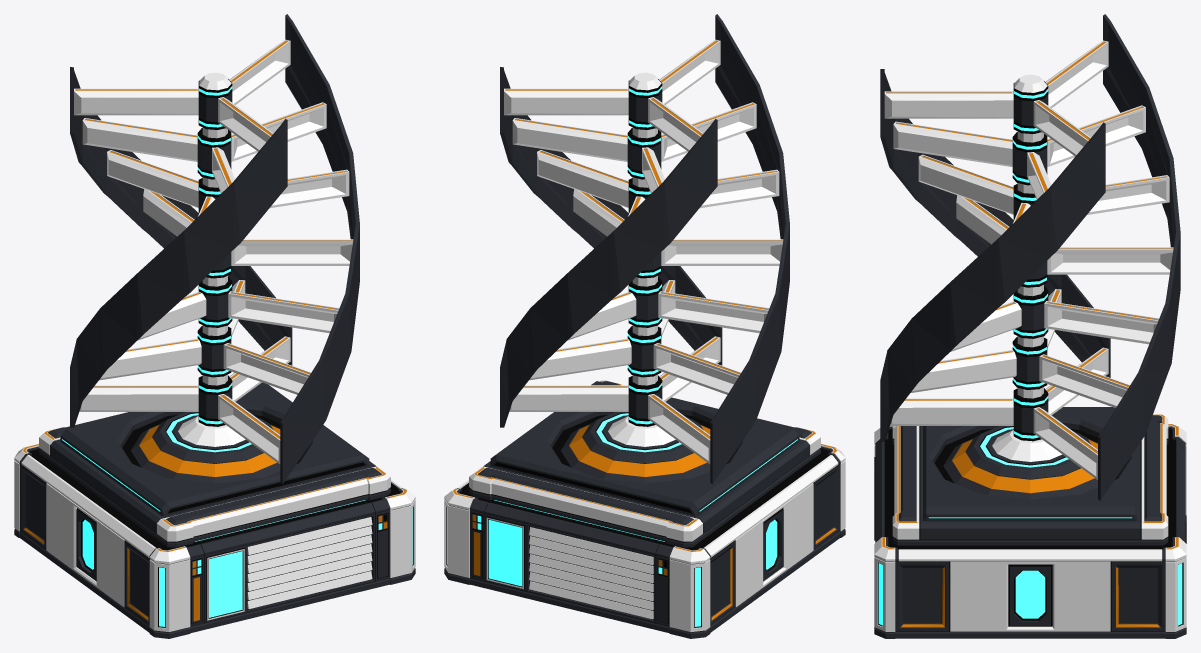
Rendered from SM_Wind_T3.fbx.
The picture shows the model from 3 angles, left to right: view 1: azimuth 30°, elevation 25°; view 2: azimuth 150°, elevation 25°; view 3: azimuth 270°, elevation 25°; orthographic projection. The views are drawn at different scales.
Parts seen in each view (by area): view 1: SM_Wind_T3_Rotor, SM_Wind_T3_Base; view 2: SM_Wind_T3_Rotor, SM_Wind_T3_Base; view 3: SM_Wind_T3_Rotor, SM_Wind_T3_Base.
Part boxes in pixels (x1=…): SM_Wind_T3_Rotor: x1=70, y1=14, x2=359, y2=484; SM_Wind_T3_Base: x1=14, y1=382, x2=415, y2=638; SM_Wind_T3_Rotor: x1=500, y1=14, x2=789, y2=484; SM_Wind_T3_Base: x1=444, y1=380, x2=845, y2=638; SM_Wind_T3_Rotor: x1=880, y1=14, x2=1180, y2=500; SM_Wind_T3_Base: x1=874, y1=407, x2=1186, y2=638.
Size of the model in its own units: 300 by 534 by 300.
